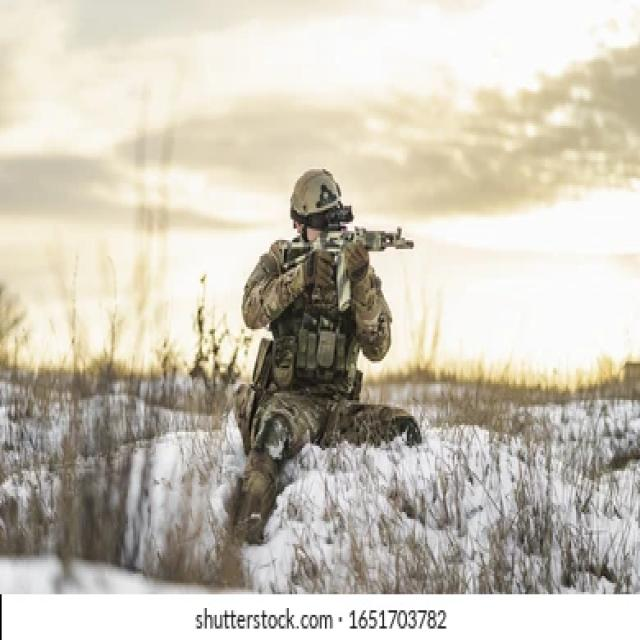soldier: (243, 168, 423, 567)
